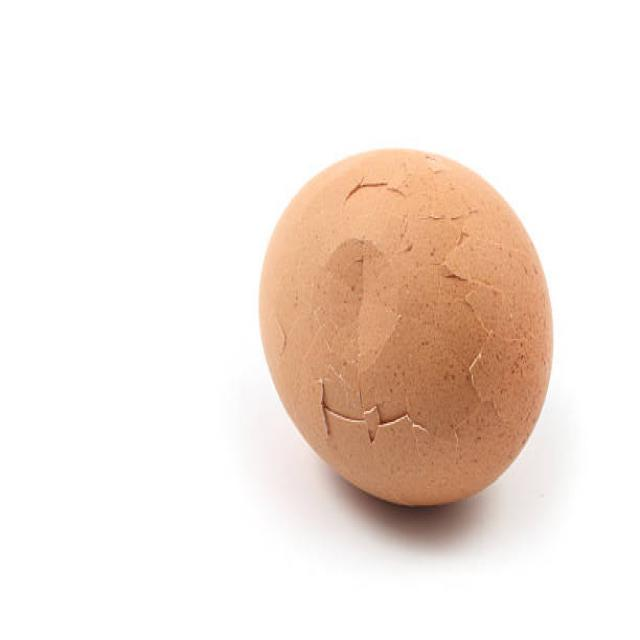biodegradable: (256, 140, 554, 510)
